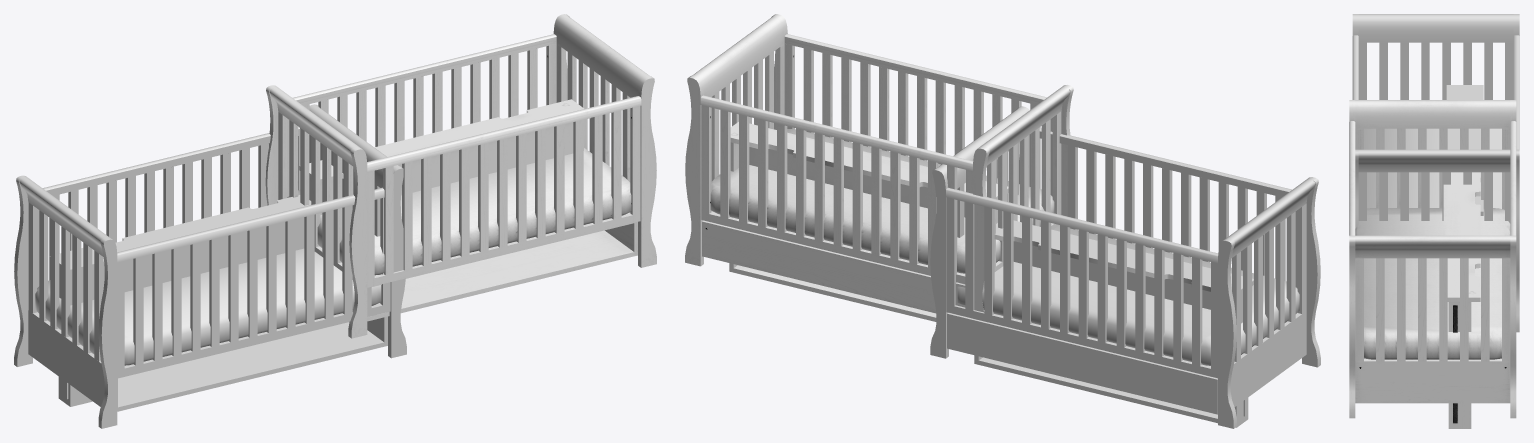
The picture shows the model from 3 angles, left to right: view 1: azimuth 30°, elevation 25°; view 2: azimuth 150°, elevation 25°; view 3: azimuth 270°, elevation 25°; orthographic projection. The views are drawn at different scales.
Parts seen in each view (by area): view 1: BabyBed, BabyBed.001, Drawer.001, Drawer; view 2: BabyBed.001, BabyBed, Drawer.001, Drawer; view 3: BabyBed, BabyBed.001, Drawer, Drawer.001.
Part boxes in pixels (x1,y1,x2,y2): BabyBed: [265, 14, 656, 338]; BabyBed.001: [14, 104, 406, 428]; Drawer.001: [49, 195, 321, 406]; Drawer: [299, 99, 590, 214]; BabyBed.001: [930, 106, 1320, 428]; BabyBed: [685, 14, 1073, 319]; Drawer.001: [974, 220, 1253, 427]; Drawer: [729, 122, 1008, 321]; BabyBed: [1349, 100, 1516, 418]; BabyBed.001: [1352, 14, 1519, 332]; Drawer: [1443, 172, 1480, 428]; Drawer.001: [1446, 85, 1483, 215].
Bounding box in the file's own units: 247 × 102 × 69.17.
